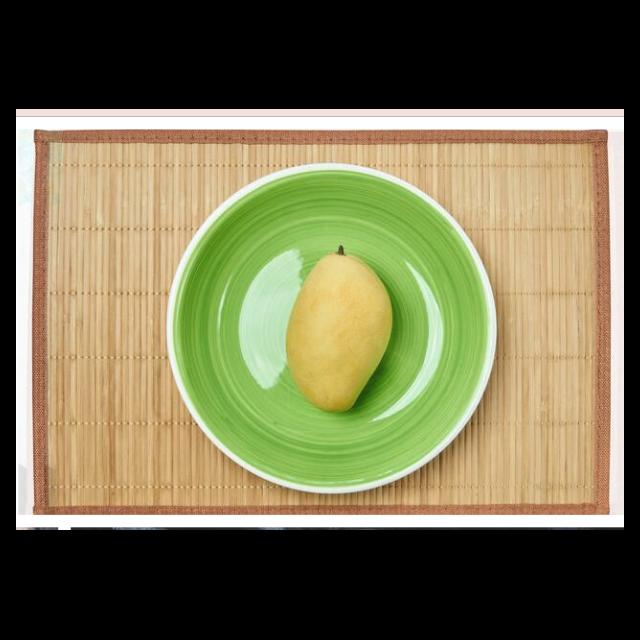mango: (286, 253, 395, 410)
